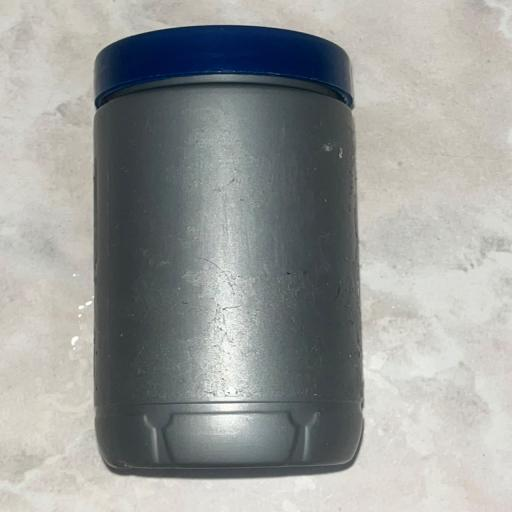HDPE: (32, 32, 452, 492)
